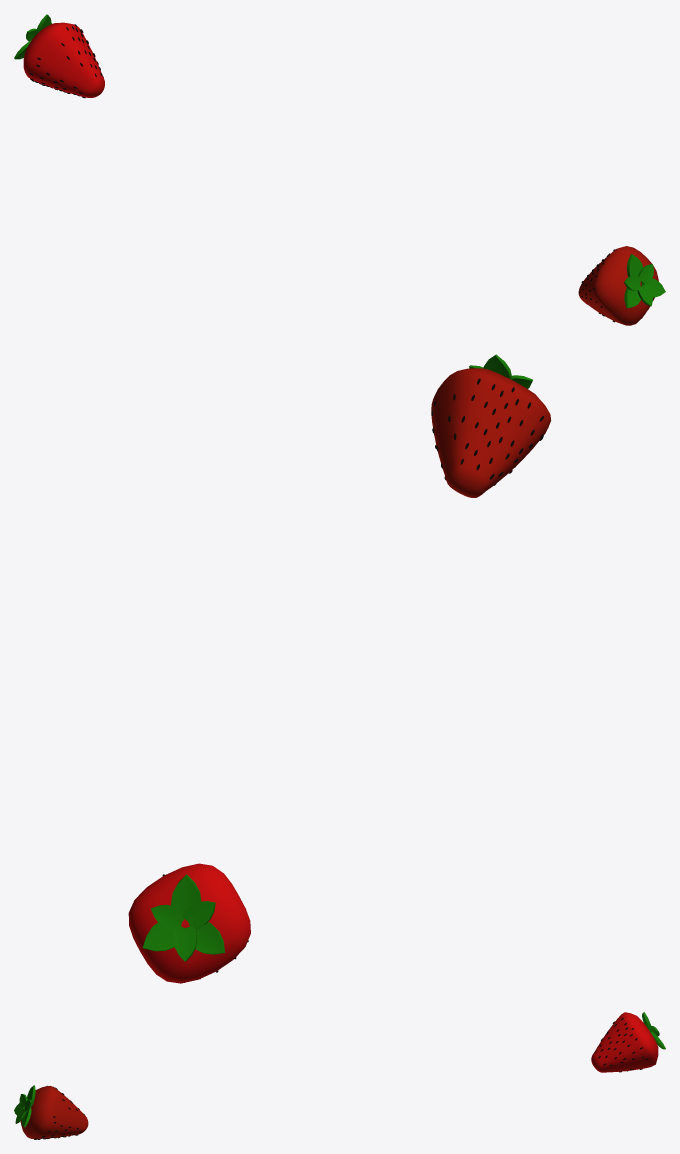
File: Strawberries.fbx
3 views of the same model, one above another, from view 1: azimuth 30°, elevation 25°; view 2: azimuth 150°, elevation 25°; view 3: azimuth 270°, elevation 25° (orthographic). The views are drawn at different scales.
Parts seen in each view (by area): view 1: Strawberry, Strawberry.001, Leaves strawberry.001; view 2: Strawberry.001, Strawberry, Leaves strawberry; view 3: Strawberry, Strawberry.001, Leaves strawberry.001, Leaves strawberry.
Boxes of the visible parts, bbox=[...] form: Strawberry: bbox=[23, 22, 104, 97]; Strawberry.001: bbox=[578, 246, 658, 325]; Leaves strawberry.001: bbox=[624, 254, 665, 308]; Strawberry.001: bbox=[431, 368, 551, 497]; Strawberry: bbox=[128, 863, 250, 983]; Leaves strawberry: bbox=[142, 874, 225, 961]; Strawberry: bbox=[591, 1012, 658, 1072]; Strawberry.001: bbox=[20, 1086, 88, 1139]; Leaves strawberry.001: bbox=[14, 1085, 35, 1127]; Leaves strawberry: bbox=[642, 1012, 665, 1049].
Size of the model in its own units: 278 by 72.02 by 780.
1 material, 1 textured.
